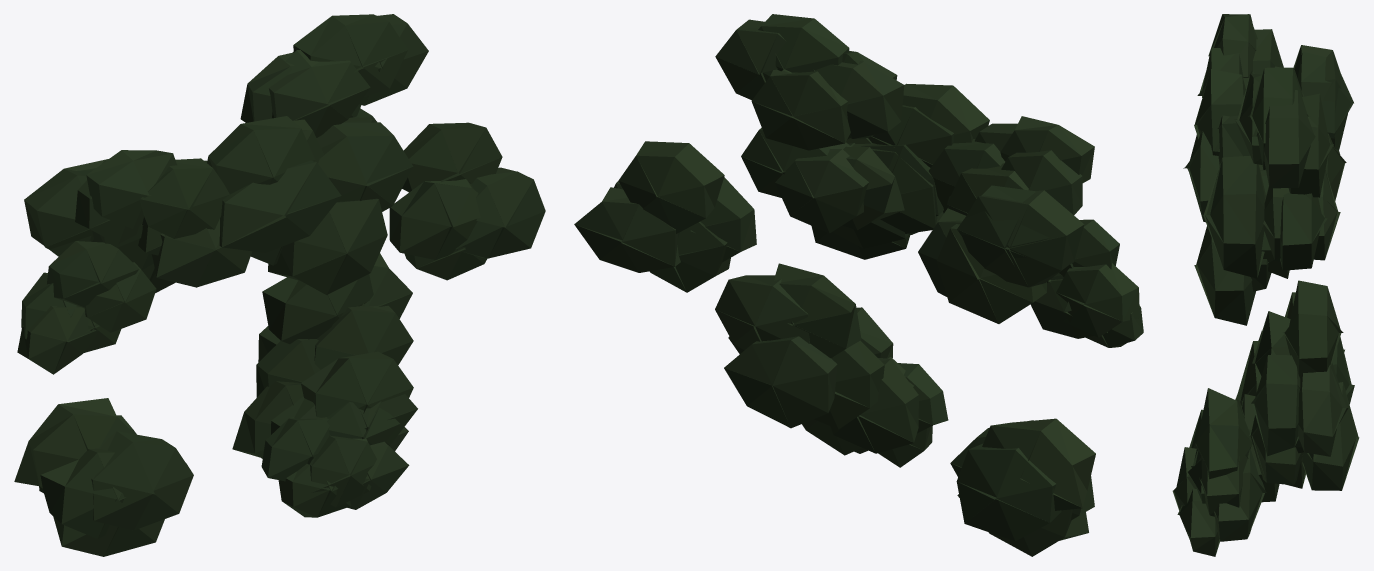
The model's file is tree_m7_far.obj.
3 renders of one model, left to right at view 1: azimuth 30°, elevation 25°; view 2: azimuth 150°, elevation 25°; view 3: azimuth 270°, elevation 25°, orthographic. The views are drawn at different scales.
Size of the model in its own units: 1.8 by 1.52 by 0.5008.
1 material, 1 textured.
